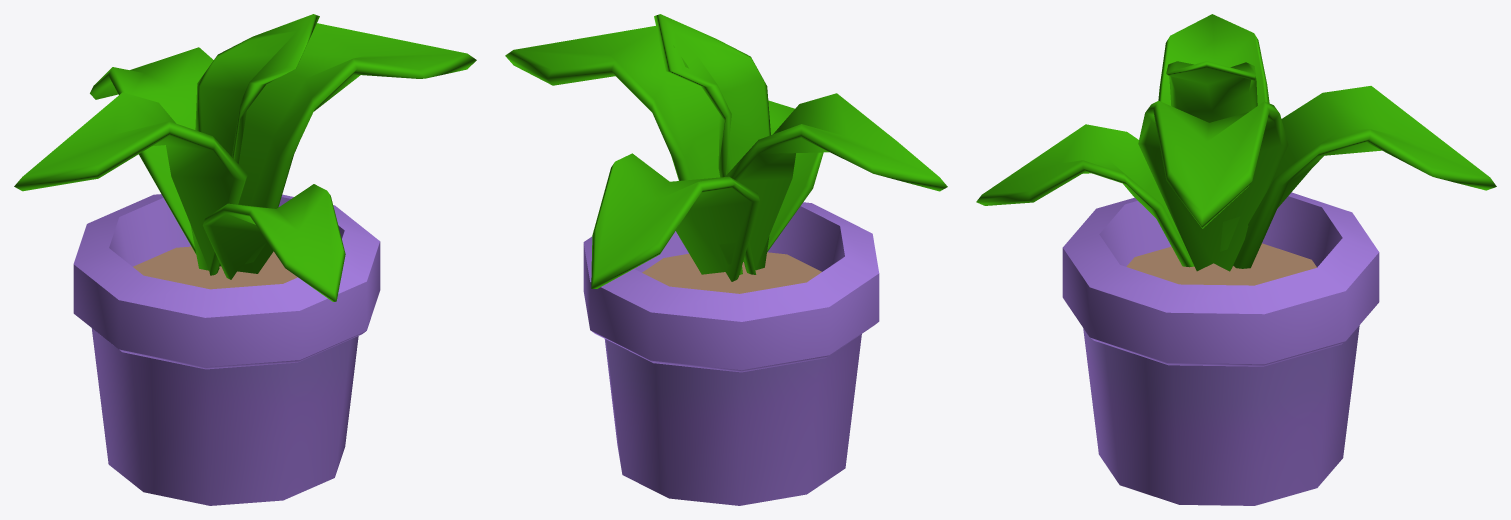
The model's file is SM_Room_Flower.fbx.
3 views of the same model, side by side, from view 1: azimuth 30°, elevation 25°; view 2: azimuth 150°, elevation 25°; view 3: azimuth 270°, elevation 25° (orthographic). The views are drawn at different scales.
Parts seen in each view (by area): view 1: SM_Room_Flower; view 2: SM_Room_Flower; view 3: SM_Room_Flower.
Boxes of the visible parts, x1,y1,x2,y2 form: SM_Room_Flower: (14, 14, 476, 505); SM_Room_Flower: (505, 14, 947, 505); SM_Room_Flower: (976, 14, 1496, 505).
Size of the model in its own units: 72.7 by 64.87 by 70.43.
